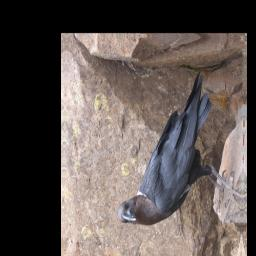Crow: (117, 69, 245, 229)
